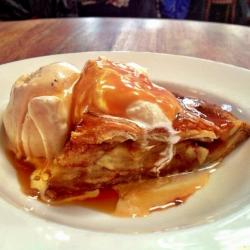apple_pie: (51, 57, 247, 201)
icecream: (4, 61, 80, 163)
